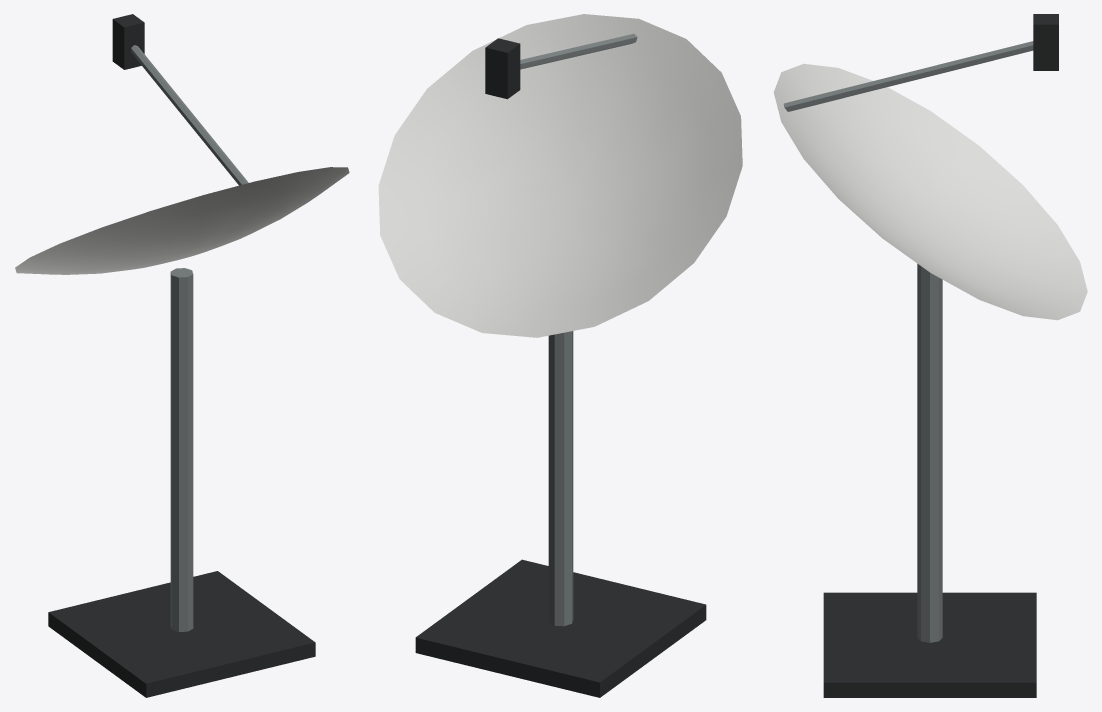
File: satellite_dish_lod1.glb
The picture shows the model from 3 angles, left to right: view 1: azimuth 30°, elevation 25°; view 2: azimuth 150°, elevation 25°; view 3: azimuth 270°, elevation 25°; orthographic projection. The views are drawn at different scales.
Visible parts, largest first — view 1: satellite_dish; view 2: satellite_dish; view 3: satellite_dish.
Part boxes in pixels (box(x1,y1,x2,y2)): satellite_dish: box(15, 14, 349, 697); satellite_dish: box(378, 14, 742, 697); satellite_dish: box(773, 14, 1087, 697).
Bounding box in the file's own units: 0.9 × 1.64 × 0.7407.
Materials: 1 (1 with a texture image).
